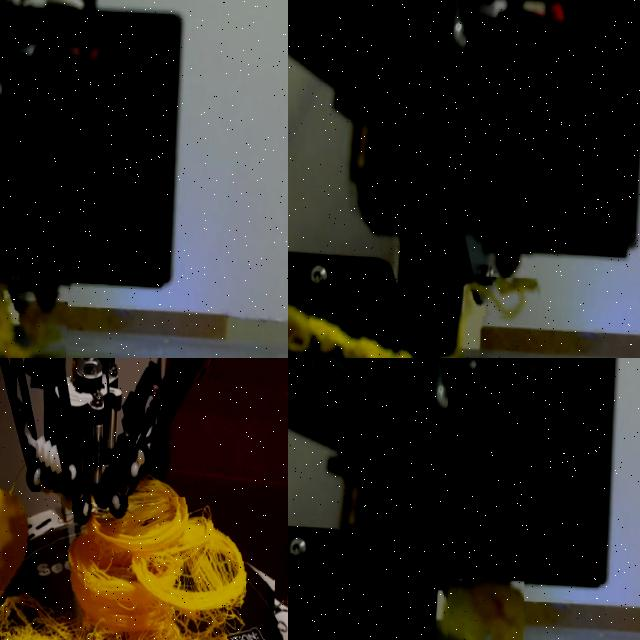spaghetti: (0, 489, 277, 640), (288, 300, 416, 358), (0, 268, 68, 358), (446, 580, 523, 640), (466, 277, 537, 316)
